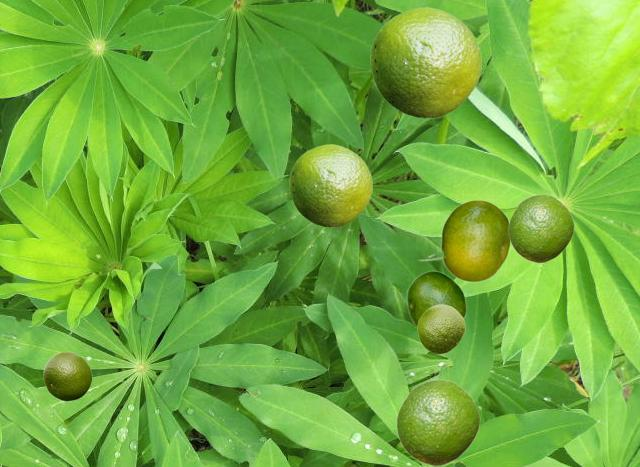calamansi: (370, 7, 480, 117), (417, 199, 510, 281), (396, 379, 479, 465), (289, 144, 371, 226), (508, 194, 573, 262), (406, 270, 466, 327), (43, 351, 91, 400), (417, 304, 464, 353)
